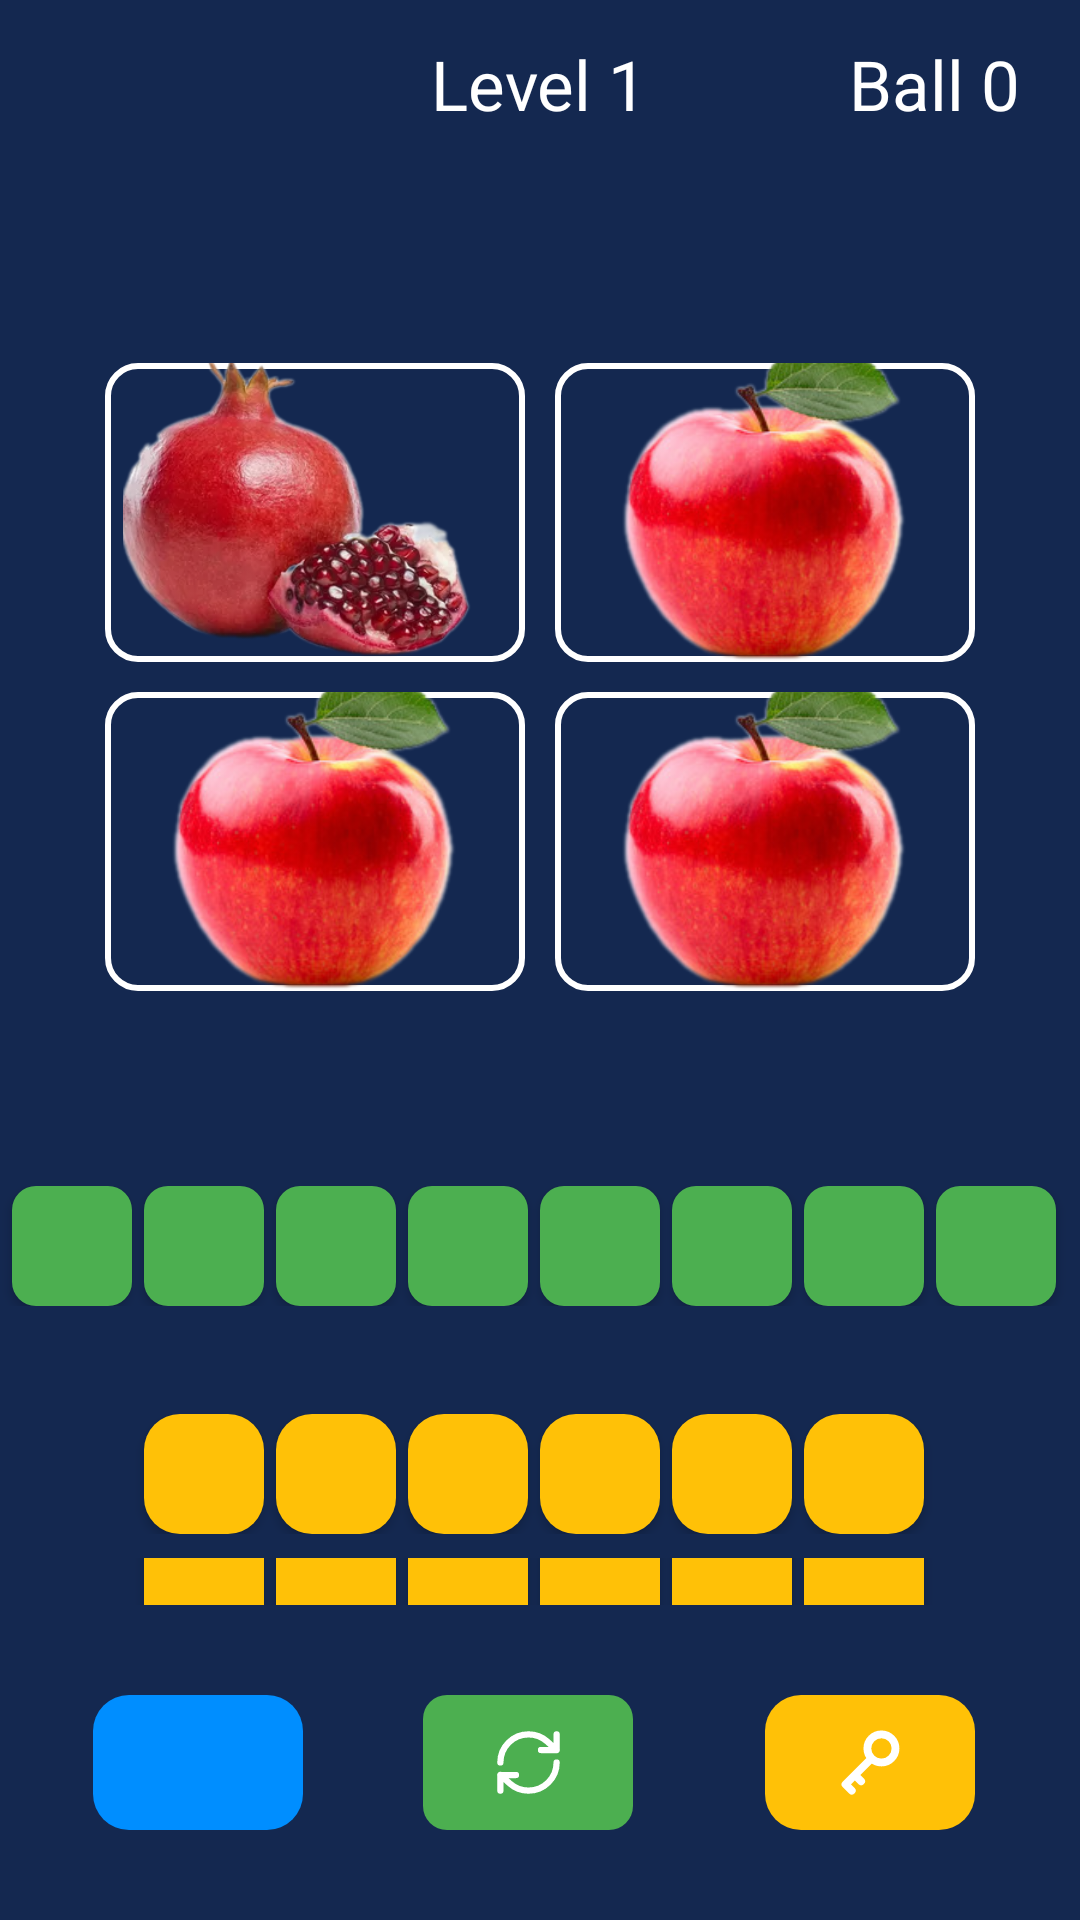

Icon bounding boxes for this 1080px×1920px phone screenshot, format [left=x1, top=y1, right=x2, bottom=y2]:
key: [left=765, top=1695, right=975, bottom=1830]
refresh: [left=423, top=1695, right=633, bottom=1830]
